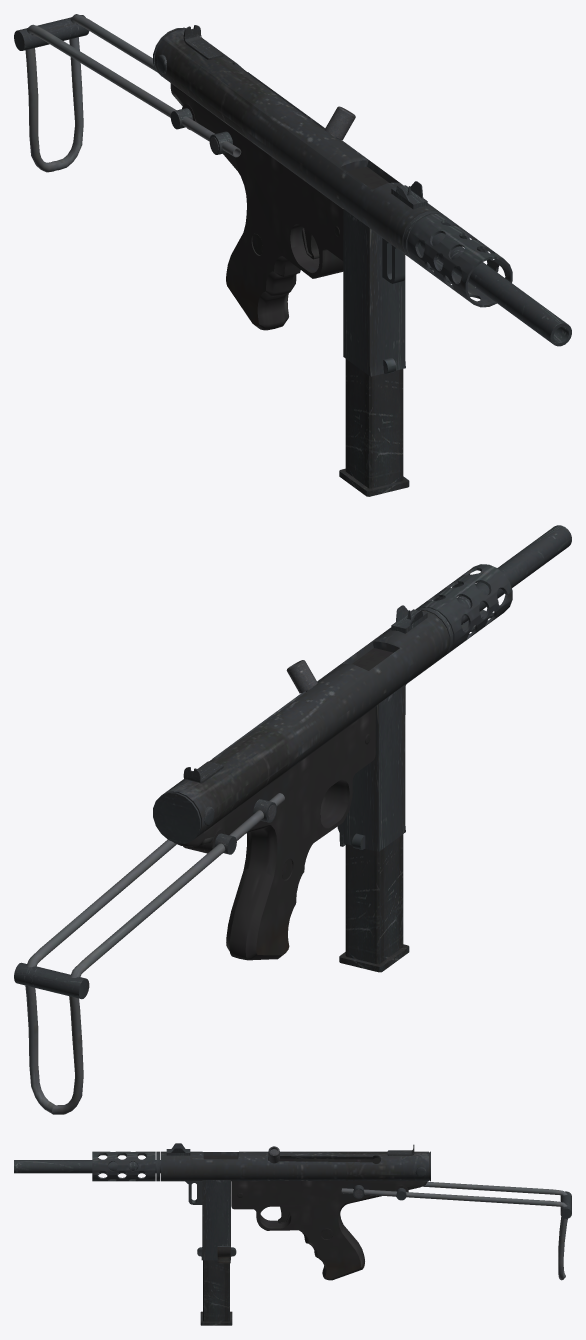
Rendered from pleter91.glb.
The picture shows the model from 3 angles, top to bottom: view 1: azimuth 30°, elevation 25°; view 2: azimuth 150°, elevation 25°; view 3: azimuth 270°, elevation 25°; orthographic projection. The views are drawn at different scales.
Visible parts, largest first — view 1: Pleter_Body, ERO_Magazine, Pleter_Stock, Pleter_Bolt; view 2: Pleter_Body, Pleter_Stock, ERO_Magazine; view 3: Pleter_Body, Pleter_Stock, ERO_Magazine.
Boxes of the visible parts, <box> form: Pleter_Body: <box>153,25,571,376</box>; ERO_Magazine: <box>339,359,409,496</box>; Pleter_Stock: <box>14,14,241,172</box>; Pleter_Bolt: <box>324,106,355,140</box>; Pleter_Body: <box>153,525,571,960</box>; Pleter_Stock: <box>14,793,284,1114</box>; ERO_Magazine: <box>339,834,409,972</box>; Pleter_Body: <box>14,1143,430,1280</box>; Pleter_Stock: <box>341,1182,571,1280</box>; ERO_Magazine: <box>200,1260,232,1325</box>.
Bounding box in the file's own units: 0.0389 × 0.1876 × 0.531.
Materials: 1 (1 with a texture image).
